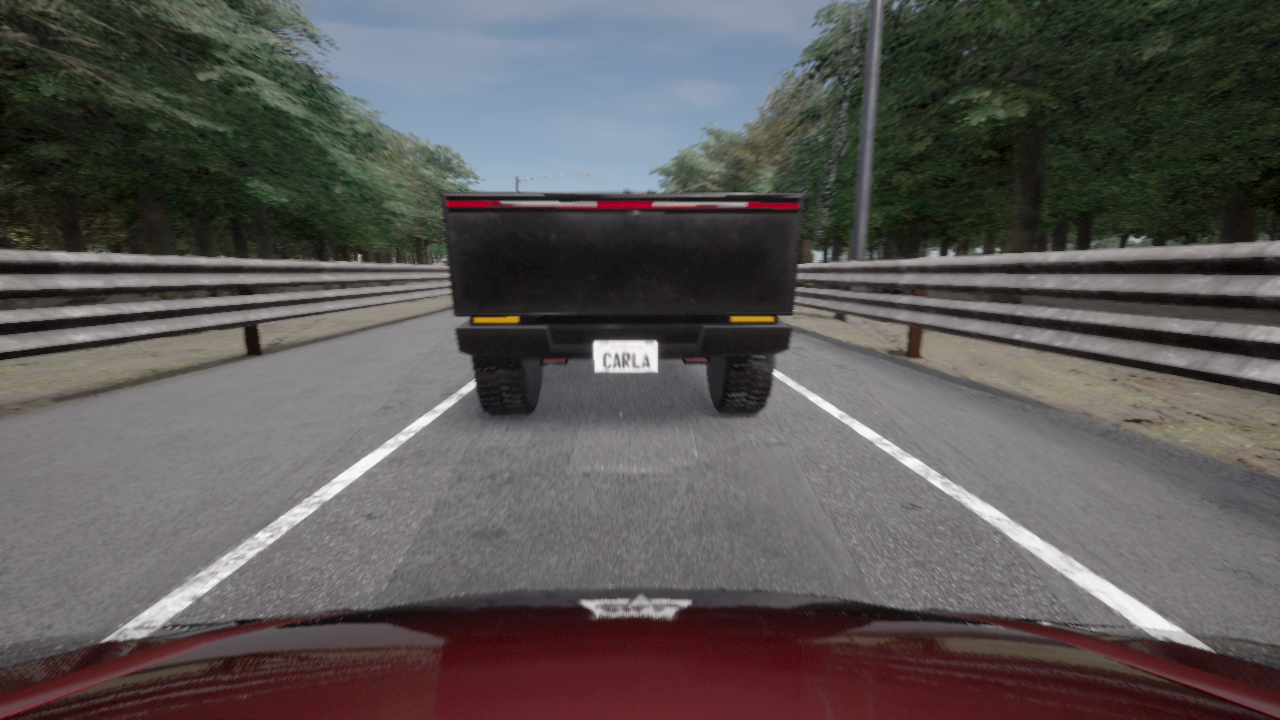cyclist: (0, 588, 1279, 719), (440, 192, 804, 415)
